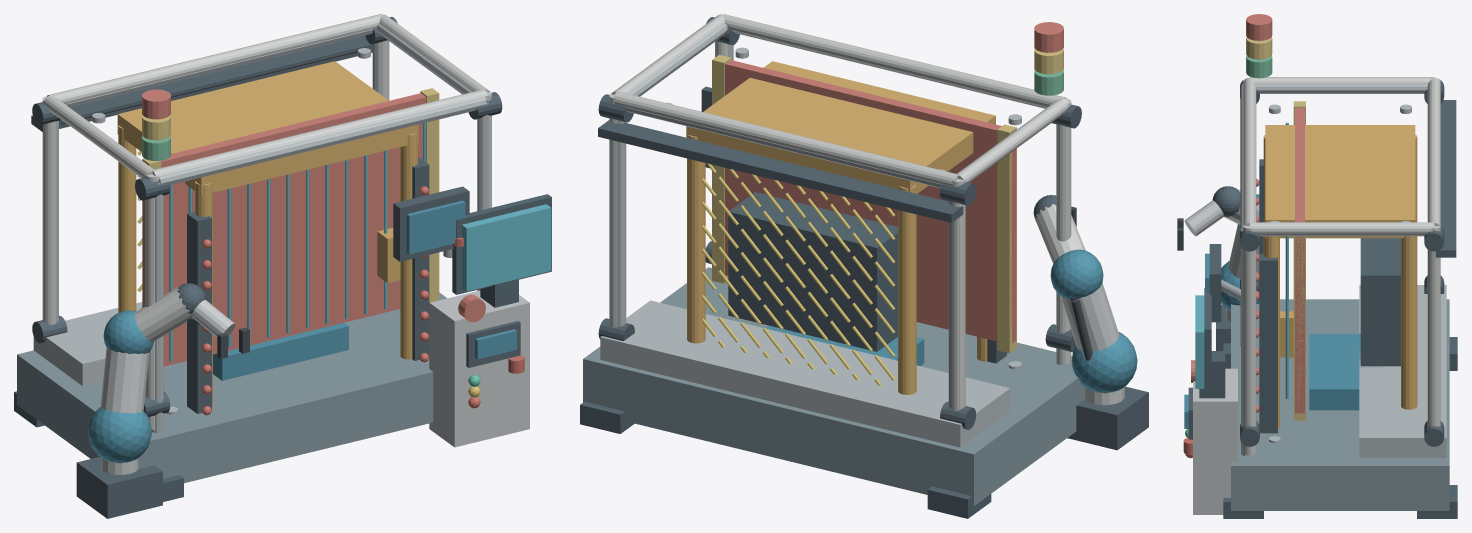
The model's file is risk.glb.
3 views of the same model, side by side, from view 1: azimuth 30°, elevation 25°; view 2: azimuth 150°, elevation 25°; view 3: azimuth 270°, elevation 25° (orthographic). The views are drawn at different scales.
Parts seen in each view (by area): view 1: safety_gate, fabricated_base, v9_174, v9_30, operator_hmi_screen, v9_24, v9_20, v9_173, v9_37, toprail_1.5, v9_153, control_plinth (+38 smaller); view 2: fabricated_base, control_plinth, safety_controller, safety_gate, v9_174, v9_24, v9_21, v9_20, v9_59, v9_61, guard_post_-2.3, v9_37 (+21 smaller); view 3: fabricated_base, v9_174, control_plinth, safety_controller, v9_30, v9_173, v9_163, v9_61, safety_gate, v9_15, v9_24, v9_23 (+31 smaller).
Part boxes in pixels (x1=…): safety_gate: x1=143, y1=93, x2=426, y2=366; fabricated_base: x1=17, y1=292, x2=446, y2=483; v9_174: x1=117, y1=61, x2=418, y2=195; v9_30: x1=429, y1=290, x2=529, y2=447; operator_hmi_screen: x1=462, y1=204, x2=551, y2=291; v9_24: x1=31, y1=35, x2=373, y2=131; v9_20: x1=47, y1=14, x2=381, y2=103; v9_173: x1=213, y1=322, x2=348, y2=380; v9_37: x1=76, y1=457, x2=162, y2=518; toprail_1.5: x1=159, y1=97, x2=486, y2=184; v9_153: x1=187, y1=212, x2=211, y2=413; control_plinth: x1=33, y1=302, x2=142, y2=385; fabricated_base: x1=583, y1=267, x2=1085, y2=506; control_plinth: x1=600, y1=300, x2=1010, y2=447; safety_controller: x1=728, y1=192, x2=897, y2=351; safety_gate: x1=725, y1=60, x2=1016, y2=343; v9_174: x1=686, y1=61, x2=995, y2=193; v9_24: x1=598, y1=120, x2=963, y2=222; v9_21: x1=722, y1=14, x2=1066, y2=107; v9_20: x1=613, y1=92, x2=957, y2=185; v9_59: x1=898, y1=184, x2=916, y2=394; v9_61: x1=687, y1=135, x2=705, y2=343; guard_post_-2.3: x1=997, y1=124, x2=1016, y2=353; v9_37: x1=1067, y1=386, x2=1148, y2=450; fabricated_base: x1=1231, y1=299, x2=1449, y2=510; v9_174: x1=1265, y1=125, x2=1415, y2=238; control_plinth: x1=1359, y1=285, x2=1446, y2=457; safety_controller: x1=1360, y1=238, x2=1400, y2=366; v9_30: x1=1193, y1=368, x2=1237, y2=514; v9_173: x1=1309, y1=333, x2=1382, y2=410; v9_163: x1=1259, y1=254, x2=1277, y2=433; v9_61: x1=1401, y1=236, x2=1417, y2=409; safety_gate: x1=1295, y1=108, x2=1304, y2=413; v9_15: x1=1243, y1=225, x2=1256, y2=455; v9_24: x1=1435, y1=100, x2=1456, y2=257; v9_23: x1=1250, y1=222, x2=1434, y2=235.
Size of the model in its own units: 7.25 by 6.15 by 4.48.
